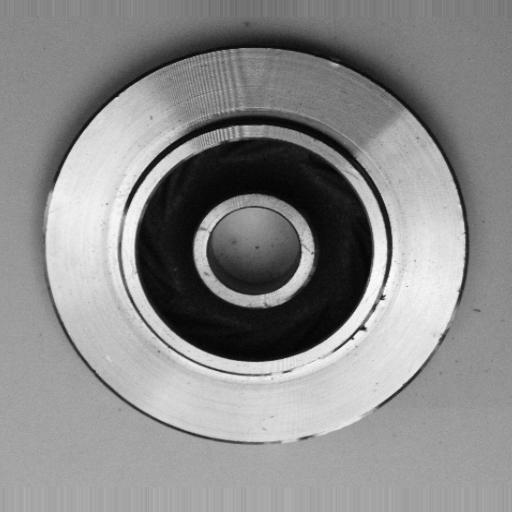crack: (344, 292, 398, 348)
scratch: (254, 344, 343, 381)
unpolished_casting: (43, 41, 470, 450)
